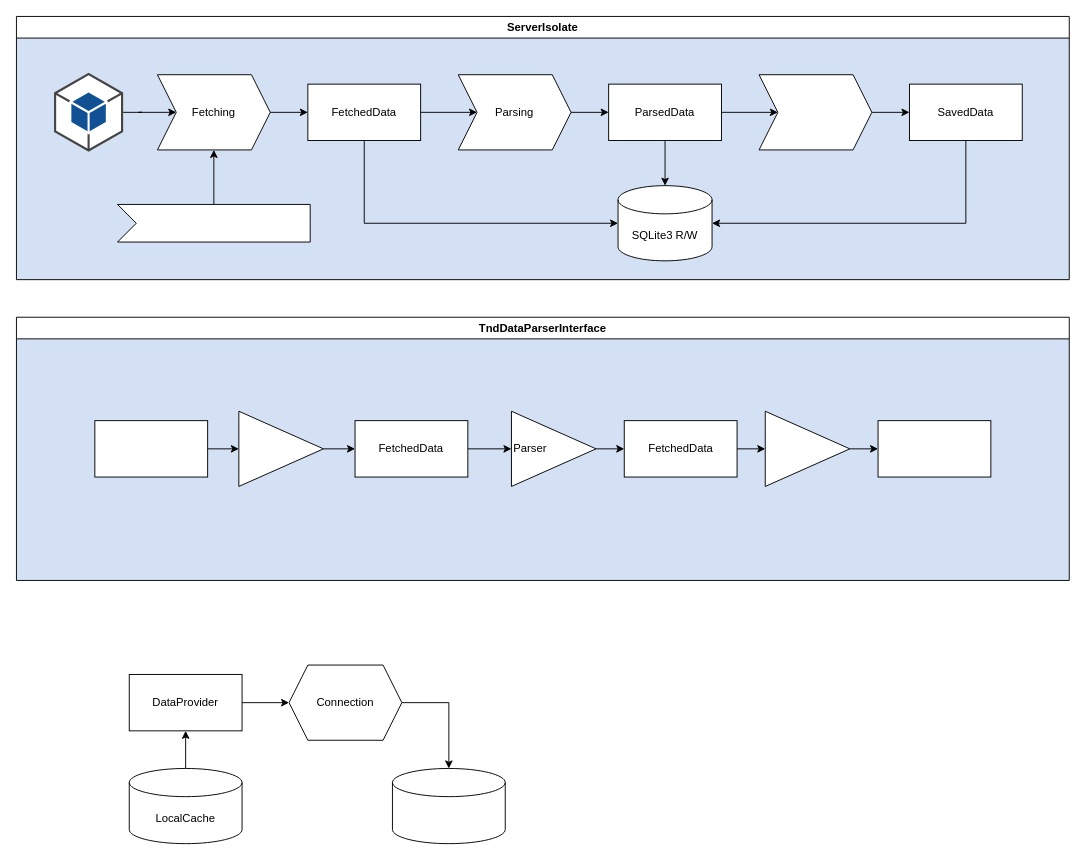
The diagram is 1086 pixels wide and 860 high, and some of its shapes have lost their labels. The centre of each missing label's shape, as x and y in pixels:
"Fetcher" goes at (x=280, y=448).
"FetchParams" goes at (x=151, y=448).
"Merger" goes at (x=807, y=448).
"MergeStats" goes at (x=934, y=448).
"RefreshPageDataEvent" goes at (x=213, y=223).
"RemoteDataBase" goes at (x=448, y=806).
"Saving" goes at (x=815, y=112).
